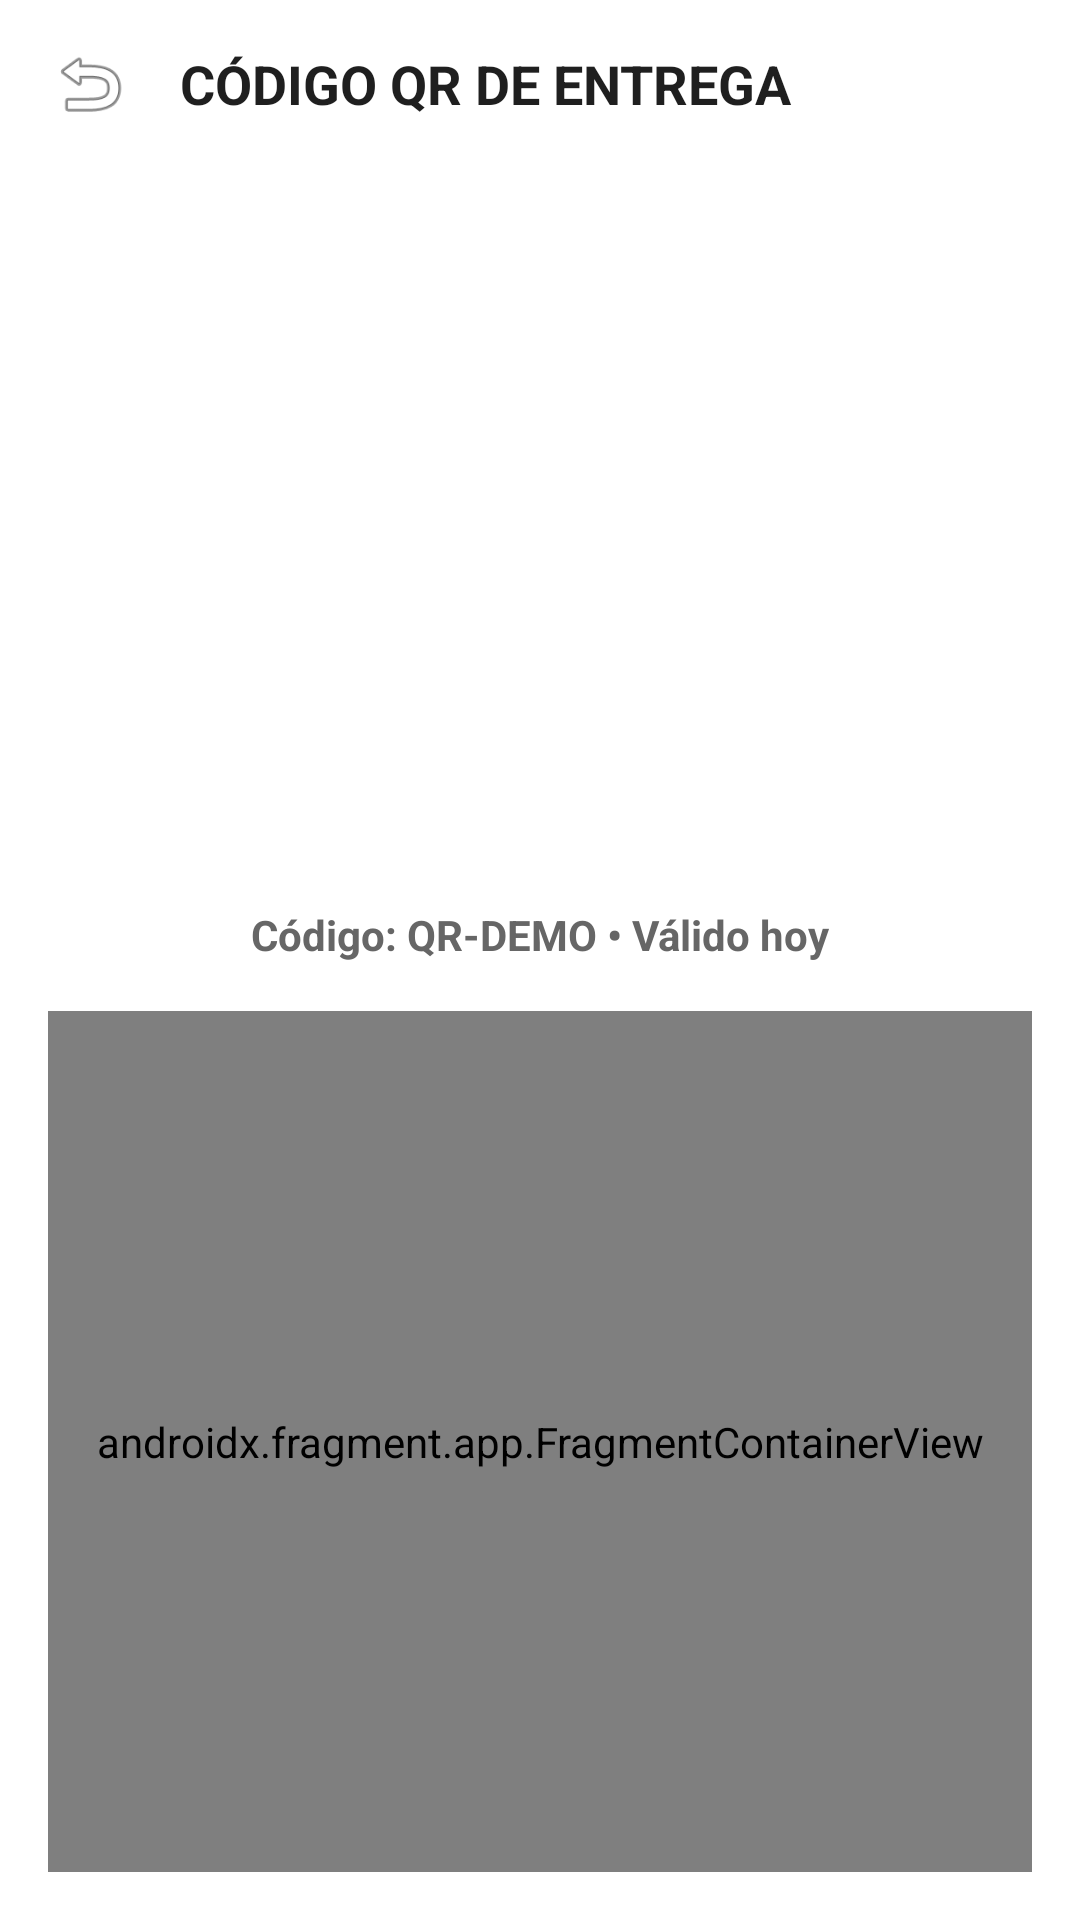

Icons on this 1080px x 1920px Android screen, each with its box as (x1, y1, x2, y2):
revert: (61, 57, 122, 112)
